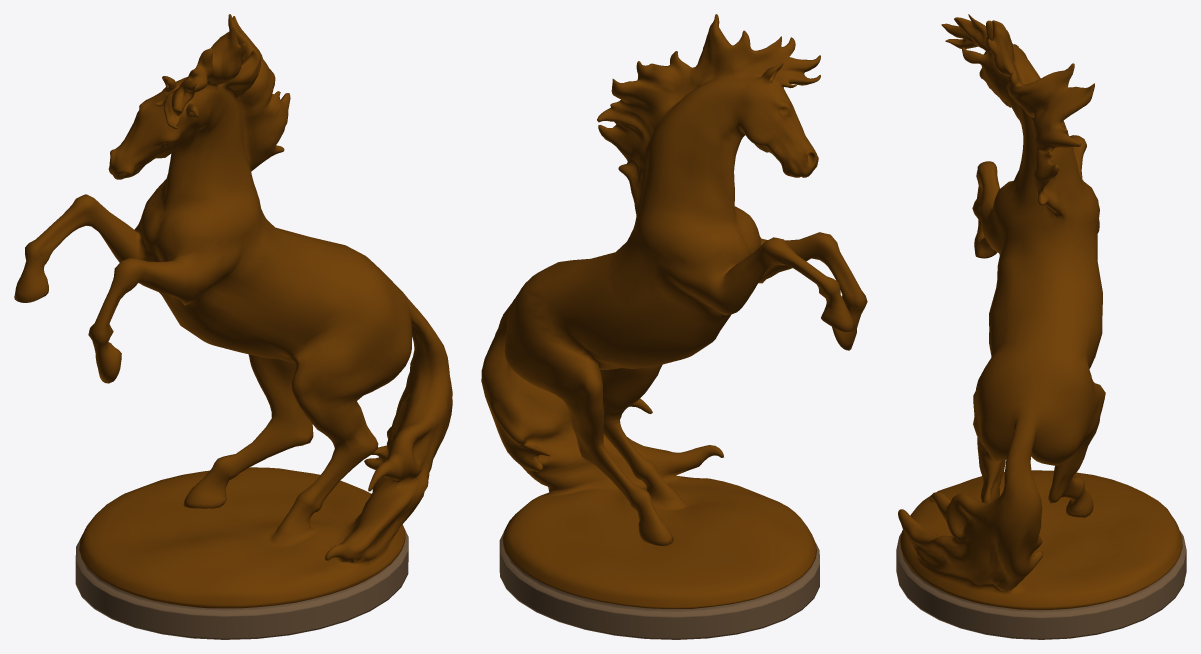
3 views of the same model, side by side, from view 1: azimuth 30°, elevation 25°; view 2: azimuth 150°, elevation 25°; view 3: azimuth 270°, elevation 25° (orthographic). The views are drawn at different scales.
Parts seen in each view (by area): view 1: horse_statue_01; view 2: horse_statue_01; view 3: horse_statue_01.
Boxes of the visible parts, x1,y1,x2,y2 form: horse_statue_01: (14, 14, 452, 639); horse_statue_01: (481, 14, 867, 639); horse_statue_01: (896, 14, 1186, 639).
Bounding box in the file's own units: 2.03 × 2.73 × 1.34.
